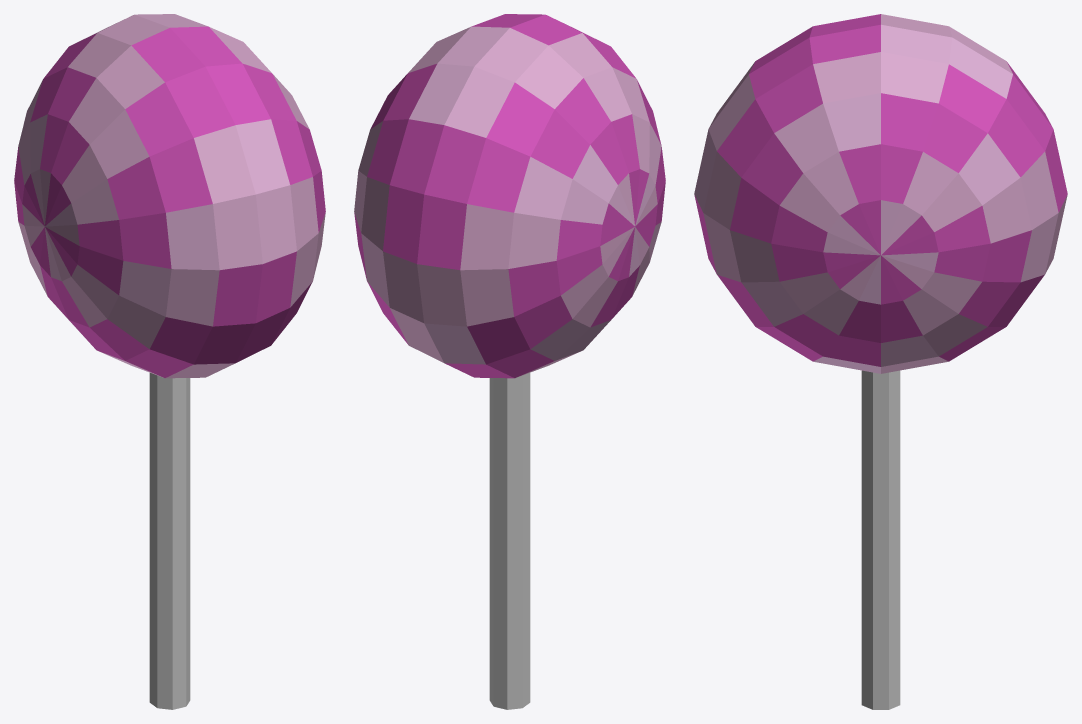
The model's file is lollipop_pink.glb.
3 views of the same model, side by side, from view 1: azimuth 30°, elevation 25°; view 2: azimuth 150°, elevation 25°; view 3: azimuth 270°, elevation 25° (orthographic).
Visible parts, largest first — view 1: lollipop_pink; view 2: lollipop_pink; view 3: lollipop_pink.
Boxes of the visible parts, x1,y1,x2,y2 form: lollipop_pink: (14, 14, 325, 709); lollipop_pink: (354, 14, 665, 709); lollipop_pink: (694, 14, 1067, 709).
Size of the model in its own units: 1.4 by 3.6 by 1.8.
